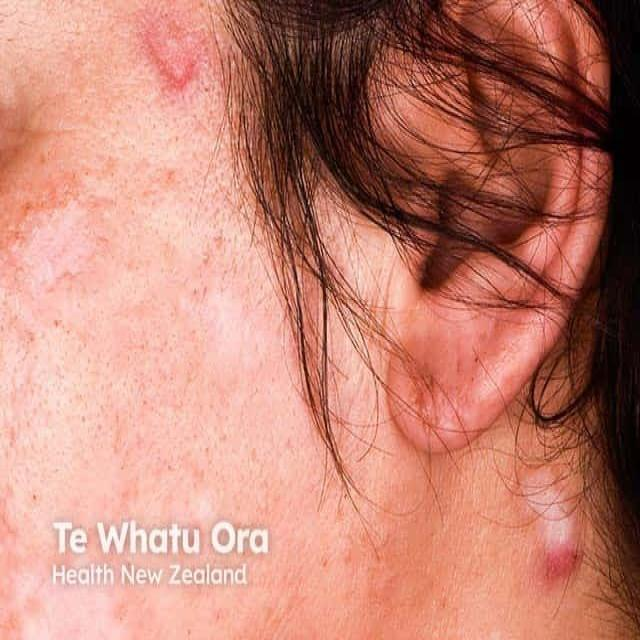lupus-detected: (106, 5, 314, 164), (488, 442, 620, 593)
